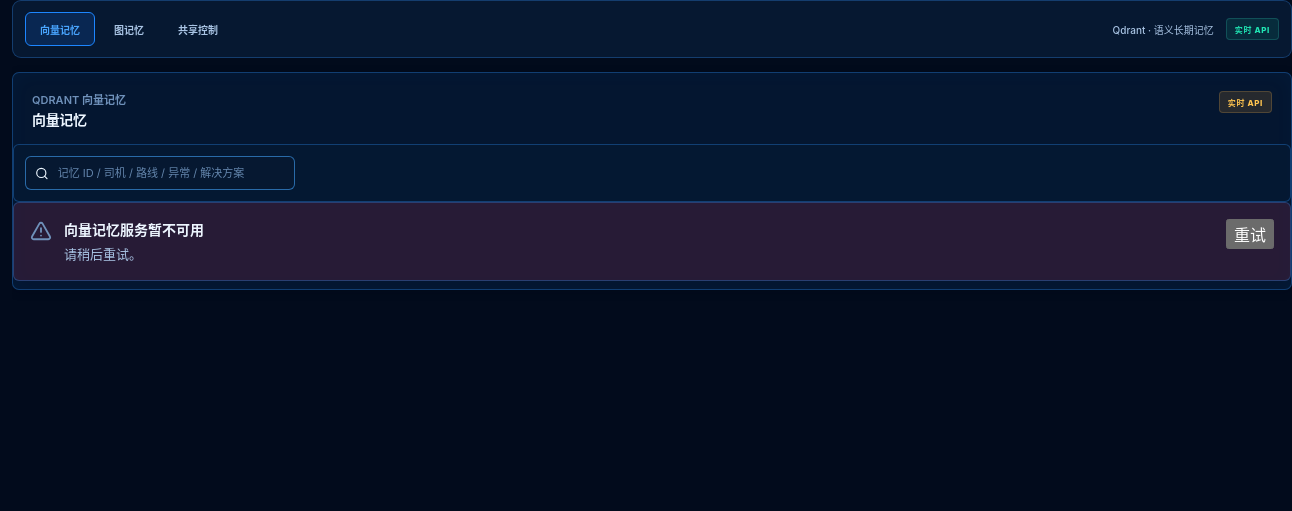
vector memory API list › shows unavailable state and retries the same real read
The width and height of the screenshot is (1292, 511).
Click the button "重试": (1250, 234) 1226,219 -> 1274,249
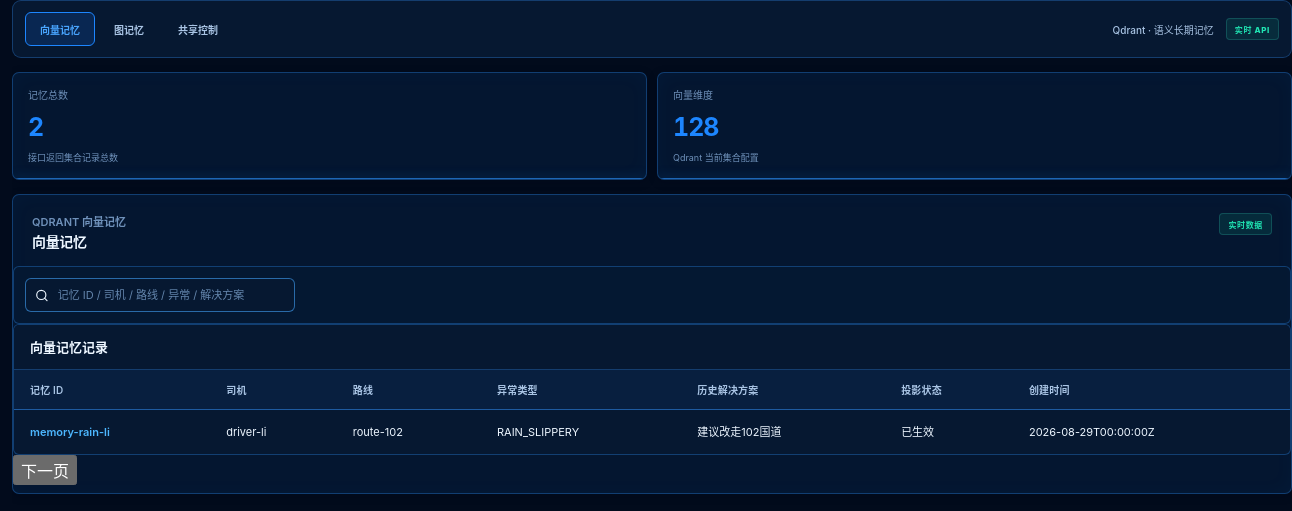
expect the text "memory-rain-li" is shown: met, box 30,422 -> 110,442
